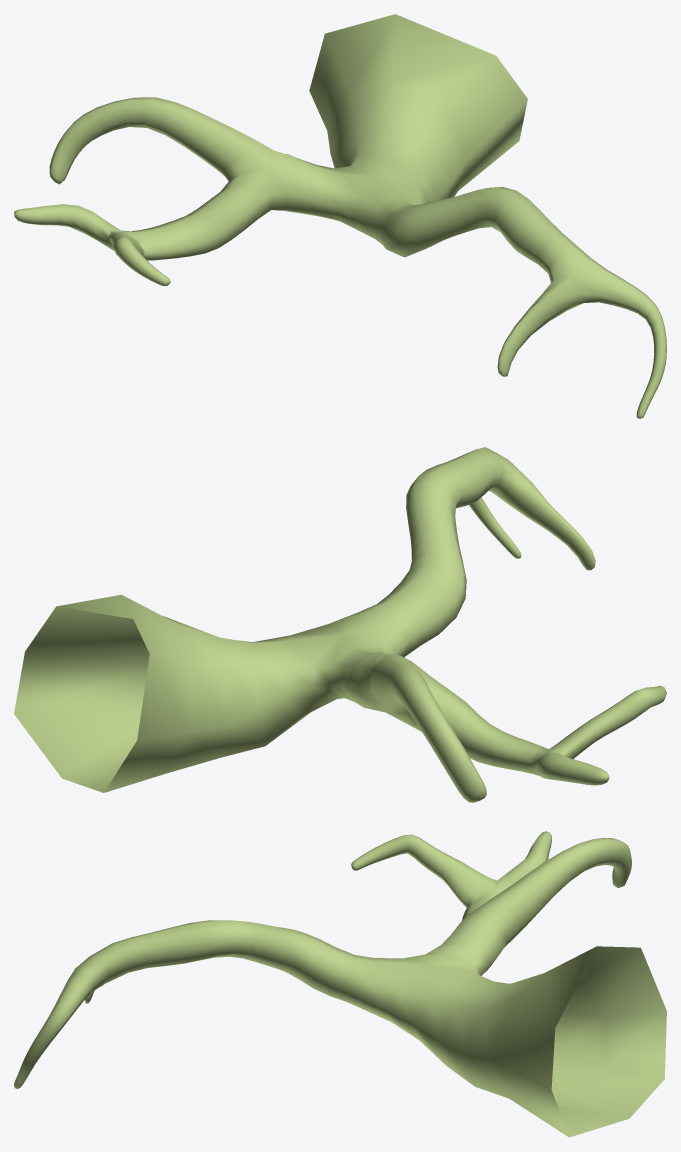
The model's file is Big tree branches_03.fbx.
The picture shows the model from 3 angles, top to bottom: view 1: azimuth 30°, elevation 25°; view 2: azimuth 150°, elevation 25°; view 3: azimuth 270°, elevation 25°; orthographic projection. The views are drawn at different scales.
Visible parts, largest first — view 1: polySurface592; view 2: polySurface592; view 3: polySurface592.
Boxes of the visible parts, box(x1,y1,x2,y2) form: polySurface592: box(14, 14, 666, 418); polySurface592: box(14, 447, 666, 802); polySurface592: box(14, 831, 666, 1137).
Bounding box in the file's own units: 127 × 40.41 × 142.
